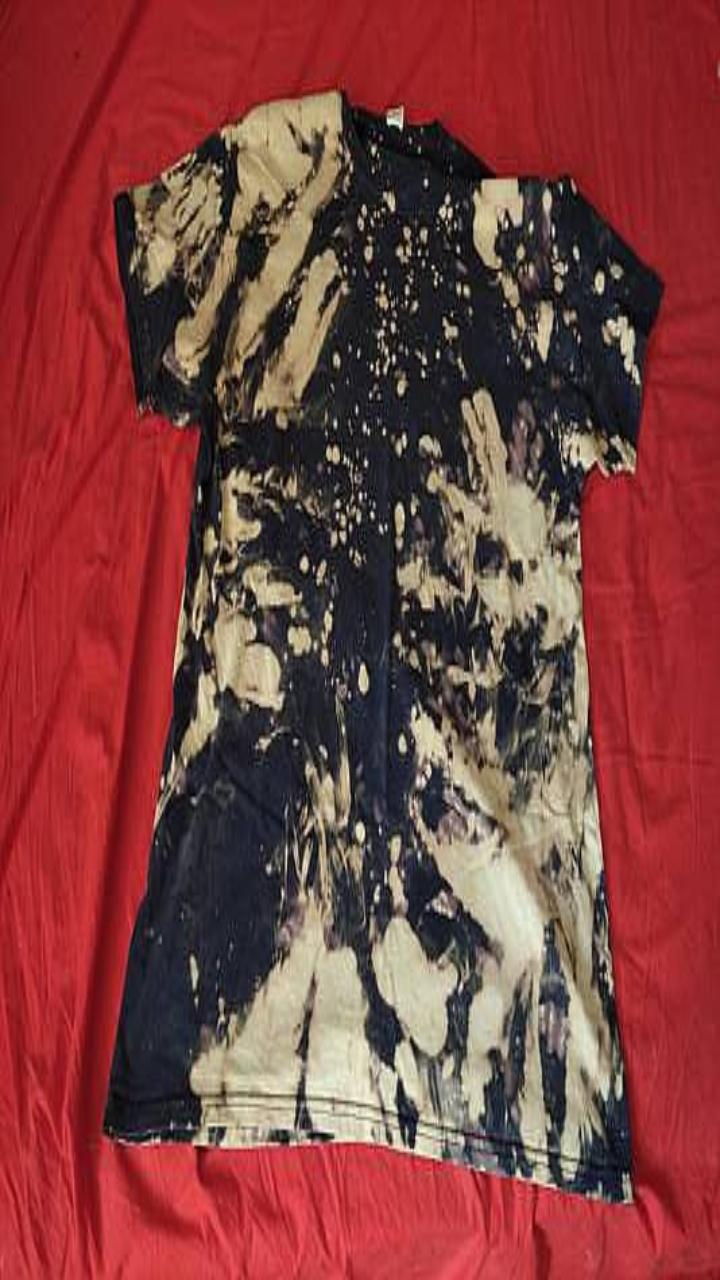T-Shirt: (104, 89, 662, 1200)
